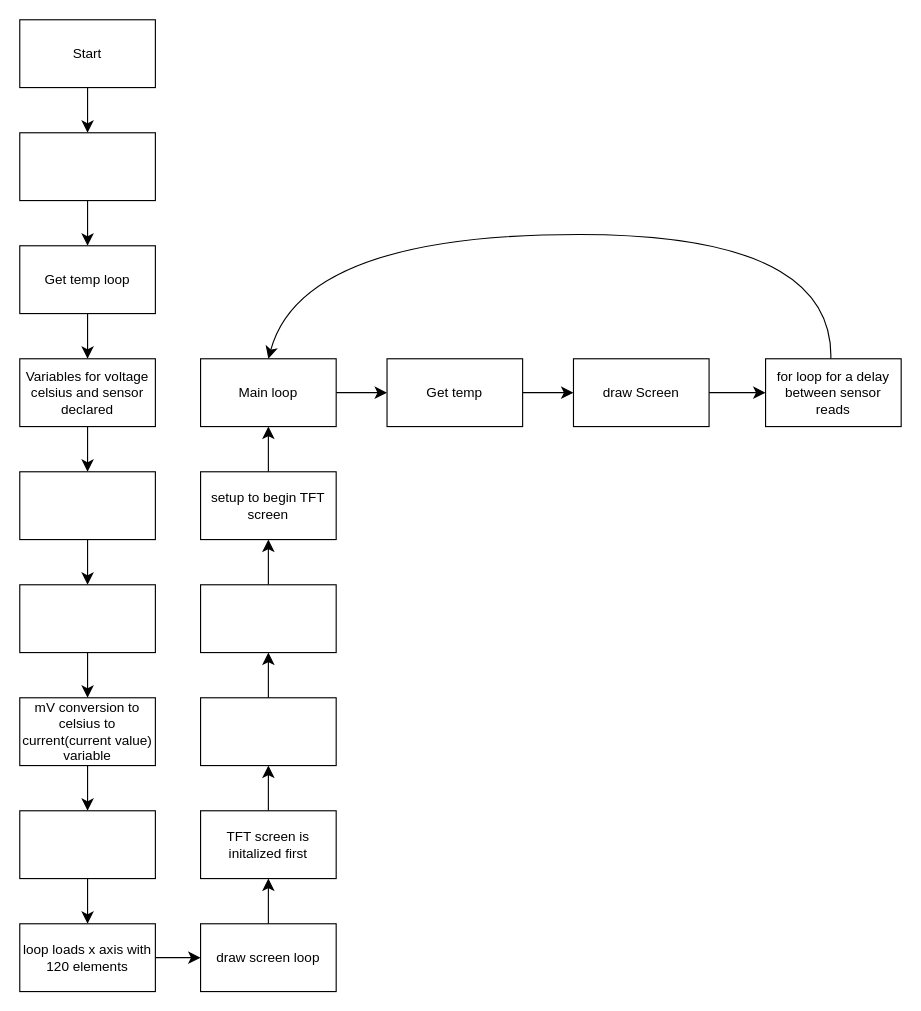
The diagram is 921 pixels wide and 1011 high, and some of its shapes have lost their labels. Each missing label, with the box of its shape:
Conversion to mV from sensor value: (19, 584, 155, 653)
Cursors are set with valuies 50 - 0 along the y axis: (199, 697, 336, 766)
Define TFT and respective pins along with TFT library: (19, 132, 155, 201)
for loop: (19, 810, 155, 879)
for loop to load sensor values into their respective y values and draw it: (199, 584, 336, 653)
Sensor reads value: (19, 471, 155, 540)
